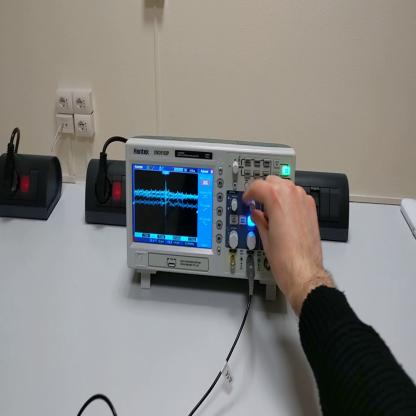hand: (244, 171, 328, 302)
oscilloscope: (127, 134, 299, 301)
socket: (2, 151, 63, 222), (84, 161, 129, 232)
